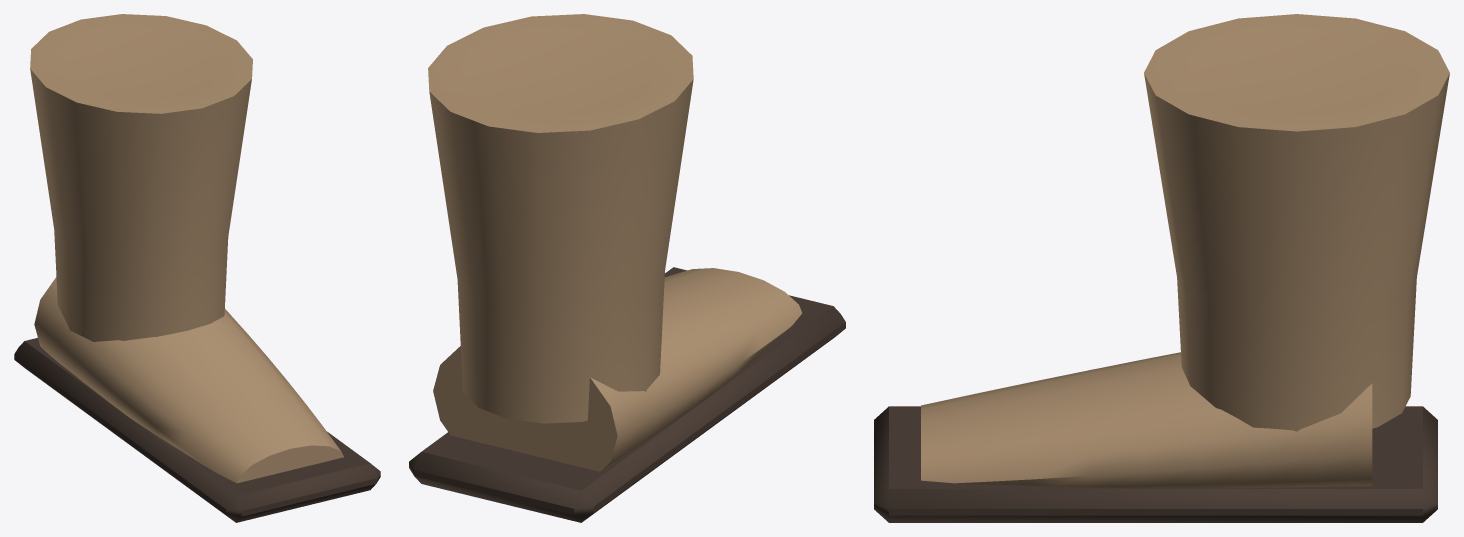
File: soft_boot.glb
The picture shows the model from 3 angles, left to right: view 1: azimuth 30°, elevation 25°; view 2: azimuth 150°, elevation 25°; view 3: azimuth 270°, elevation 25°; orthographic projection. The views are drawn at different scales.
Visible parts, largest first — view 1: soft_boot; view 2: soft_boot; view 3: soft_boot.
Part boxes in pixels (x1=…): soft_boot: x1=14, y1=14, x2=380, y2=522; soft_boot: x1=409, y1=14, x2=845, y2=522; soft_boot: x1=874, y1=14, x2=1449, y2=522.
Size of the model in its own units: 0.148 by 0.24 by 0.3064.
